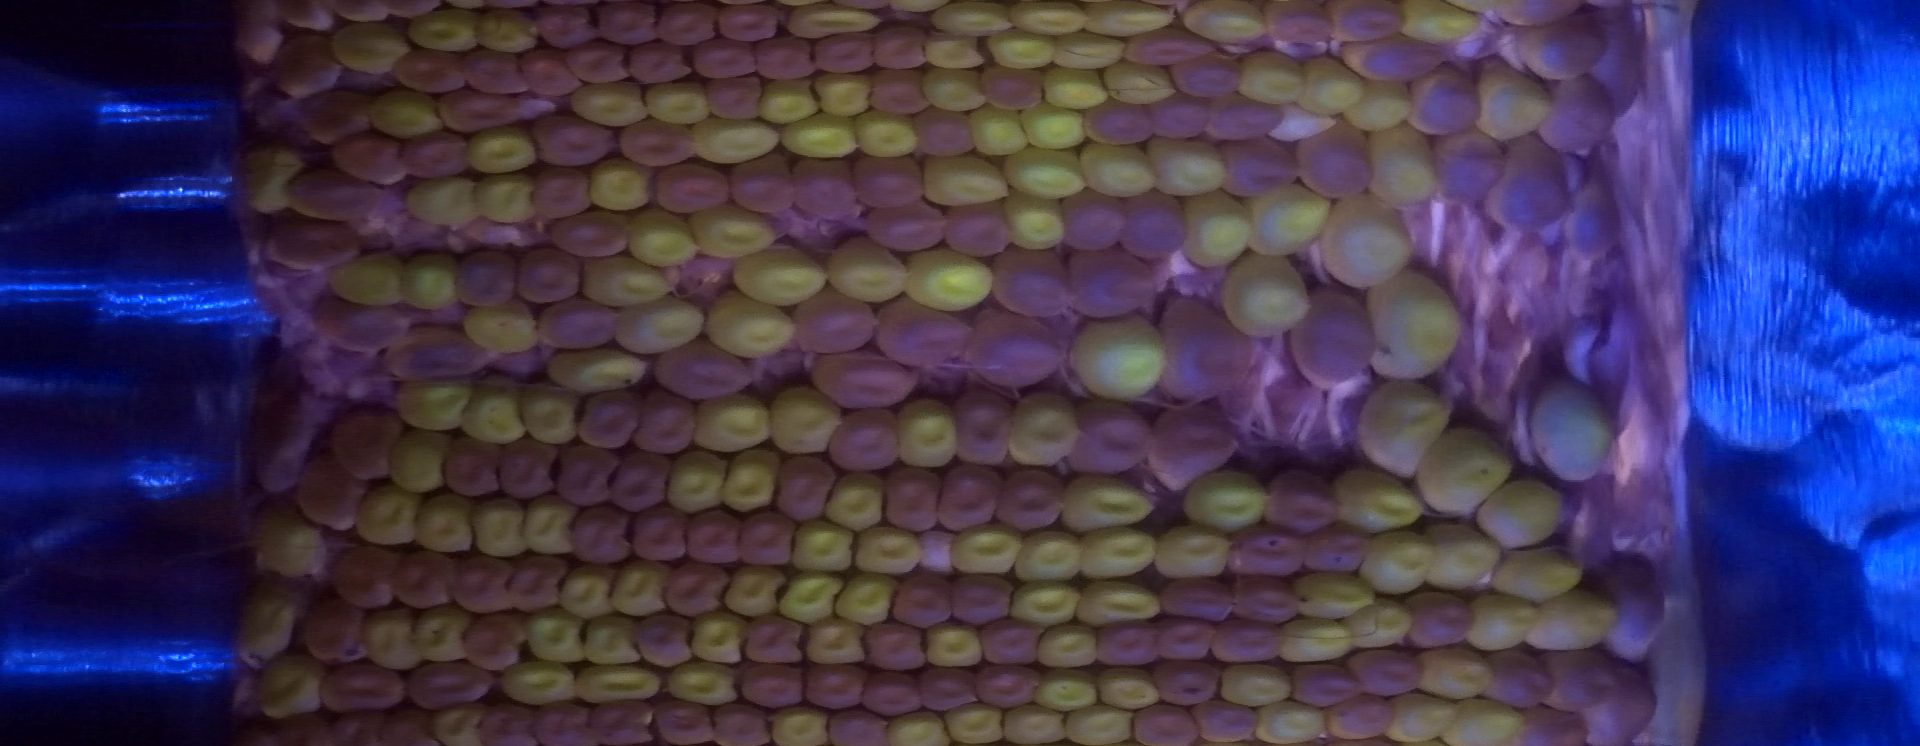fluorescent: (1518, 374, 1621, 489), (1062, 309, 1177, 407), (1360, 273, 1464, 380), (1357, 377, 1457, 484), (1315, 191, 1417, 292), (1416, 425, 1515, 521), (1220, 251, 1318, 342), (698, 285, 800, 365), (1473, 53, 1559, 145), (729, 238, 830, 311), (899, 239, 997, 315), (1245, 180, 1338, 258), (1329, 465, 1430, 537), (249, 499, 332, 583), (228, 586, 309, 673), (1518, 588, 1620, 657), (1367, 122, 1446, 209), (1476, 477, 1566, 552), (1005, 390, 1087, 473), (680, 198, 781, 265), (1057, 472, 1161, 535), (1180, 469, 1278, 537), (825, 232, 913, 306), (1418, 518, 1509, 590), (1182, 186, 1258, 272), (610, 296, 711, 360), (1487, 540, 1588, 604), (542, 343, 659, 398), (765, 383, 849, 459), (1359, 527, 1442, 598), (1142, 134, 1233, 198), (689, 390, 775, 458), (260, 647, 336, 724), (388, 372, 476, 439), (349, 483, 433, 550), (578, 254, 673, 312), (512, 380, 591, 450), (1150, 521, 1237, 584), (1071, 524, 1162, 584), (891, 397, 960, 475), (411, 483, 480, 560), (665, 446, 732, 524), (1078, 141, 1162, 203), (327, 20, 416, 78), (328, 245, 408, 310), (1431, 695, 1532, 746), (1236, 47, 1316, 110), (626, 205, 703, 271), (691, 111, 782, 167), (1464, 587, 1539, 654), (947, 519, 1029, 581), (1291, 567, 1378, 625), (240, 143, 309, 216), (1004, 147, 1093, 202), (1414, 643, 1498, 702), (460, 379, 530, 448), (1000, 575, 1085, 632), (922, 154, 1010, 209), (362, 601, 426, 677), (786, 514, 864, 576), (1296, 56, 1369, 121), (462, 301, 546, 358), (1176, 1, 1272, 50), (718, 446, 787, 513), (823, 468, 890, 537), (1070, 582, 1169, 628), (467, 492, 531, 563), (384, 428, 453, 494), (582, 156, 656, 216), (1011, 528, 1086, 588), (850, 522, 926, 581), (1385, 687, 1461, 746), (572, 75, 649, 132), (1276, 614, 1358, 668), (1341, 76, 1417, 134), (778, 111, 864, 162), (1395, 1, 1485, 49), (659, 658, 741, 710), (687, 608, 752, 674), (525, 606, 593, 670), (775, 572, 851, 628), (571, 660, 660, 708), (520, 489, 580, 560), (405, 176, 482, 232), (414, 601, 478, 668), (582, 606, 644, 673), (370, 87, 444, 142), (1341, 597, 1416, 652), (610, 559, 678, 619), (1100, 58, 1179, 109), (980, 26, 1063, 75), (1245, 697, 1329, 746), (398, 250, 462, 314), (497, 659, 576, 710), (1216, 660, 1296, 710), (463, 127, 540, 179), (966, 102, 1033, 160), (1081, 1, 1183, 39), (407, 7, 485, 56), (474, 171, 545, 225), (831, 575, 902, 628), (722, 563, 789, 621), (1029, 661, 1101, 714), (1019, 103, 1092, 154), (920, 617, 989, 671), (1031, 620, 1102, 673), (918, 66, 992, 116), (560, 561, 617, 625), (1040, 64, 1116, 111), (1090, 661, 1163, 710), (856, 108, 920, 164), (800, 615, 864, 669), (647, 78, 718, 127), (762, 699, 835, 746), (1049, 31, 1129, 73), (782, 6, 882, 40), (1057, 704, 1138, 746), (471, 9, 540, 58), (756, 75, 819, 127), (937, 698, 1007, 746), (932, 1, 1019, 39), (997, 699, 1067, 746), (811, 70, 876, 119), (432, 697, 497, 746), (878, 703, 951, 746), (920, 29, 991, 73), (1010, 1, 1092, 39)
nonfluorescent: (1163, 294, 1248, 398), (1146, 401, 1238, 489), (1294, 288, 1369, 393), (1488, 136, 1566, 229), (973, 306, 1060, 390), (1596, 552, 1662, 658), (1587, 1, 1644, 118), (1063, 247, 1152, 318), (1565, 173, 1631, 265), (876, 303, 972, 364), (309, 290, 405, 352), (1542, 72, 1614, 153), (804, 350, 920, 401), (1070, 401, 1150, 473), (324, 403, 402, 477), (1297, 126, 1371, 198), (656, 345, 753, 399), (996, 247, 1067, 318), (276, 170, 376, 220), (948, 386, 1009, 464), (1587, 668, 1656, 737), (1262, 470, 1337, 534), (1344, 40, 1451, 85), (791, 296, 878, 350), (1538, 647, 1611, 710), (1111, 192, 1185, 255), (441, 87, 556, 127), (1516, 28, 1605, 80), (1411, 71, 1480, 136), (296, 464, 364, 530), (384, 333, 493, 374), (1218, 136, 1296, 192), (318, 660, 404, 710), (263, 223, 358, 268), (1436, 132, 1501, 196), (302, 599, 369, 661), (1484, 648, 1551, 709), (936, 463, 997, 529), (1224, 526, 1303, 577), (1346, 646, 1420, 699), (527, 118, 612, 164), (998, 470, 1060, 534), (1059, 189, 1124, 250), (332, 134, 408, 185), (411, 660, 491, 709), (278, 36, 340, 97), (557, 443, 620, 505), (331, 548, 396, 606), (1201, 96, 1282, 142), (536, 299, 617, 345), (633, 388, 692, 452), (513, 247, 580, 303), (1401, 592, 1469, 646), (547, 211, 631, 254), (301, 94, 372, 145), (829, 415, 900, 465), (727, 160, 793, 214), (853, 157, 921, 209), (578, 390, 639, 447), (504, 556, 566, 614), (790, 162, 853, 217), (866, 206, 947, 249), (742, 617, 809, 669), (440, 439, 500, 496), (887, 467, 940, 530), (1150, 657, 1220, 706), (665, 562, 725, 619), (458, 249, 516, 306), (775, 459, 831, 518), (618, 124, 696, 167), (655, 167, 732, 209), (942, 203, 1009, 252), (947, 570, 1010, 621), (736, 663, 804, 710), (229, 9, 288, 64), (864, 619, 924, 673), (1120, 29, 1213, 64), (1287, 663, 1359, 707), (800, 661, 864, 710), (684, 507, 738, 566), (467, 616, 528, 668), (612, 452, 666, 510), (402, 129, 467, 176), (1215, 620, 1288, 661), (520, 47, 584, 94), (910, 108, 973, 156), (497, 443, 552, 499), (452, 559, 509, 611), (632, 614, 691, 665), (1308, 524, 1370, 572), (1082, 100, 1150, 145), (1161, 579, 1231, 621), (574, 510, 628, 563), (397, 549, 451, 603), (633, 503, 686, 559), (895, 573, 950, 626), (982, 62, 1042, 110), (397, 51, 469, 91), (658, 695, 715, 744), (864, 67, 924, 114), (377, 701, 438, 746), (983, 620, 1040, 669), (465, 47, 524, 93), (1100, 624, 1161, 668), (1265, 2, 1327, 45), (1229, 578, 1296, 619), (587, 701, 653, 741), (757, 33, 816, 78), (1171, 58, 1243, 94), (1129, 706, 1199, 744), (528, 169, 588, 213), (479, 701, 540, 744), (1144, 98, 1207, 138), (740, 516, 793, 563), (857, 673, 918, 714), (564, 43, 629, 82), (598, 4, 658, 45), (280, 1, 344, 40), (704, 77, 763, 119), (1523, 704, 1586, 744), (1329, 1, 1400, 36), (696, 40, 759, 78), (633, 43, 691, 83), (656, 2, 715, 42), (713, 704, 771, 744), (824, 709, 889, 744), (920, 668, 977, 706), (714, 5, 778, 39), (540, 7, 595, 47), (816, 33, 871, 72), (1158, 620, 1213, 659), (1329, 702, 1387, 739), (876, 28, 924, 70), (1196, 703, 1254, 737), (976, 668, 1032, 702), (538, 708, 590, 744), (1493, 5, 1584, 21)
